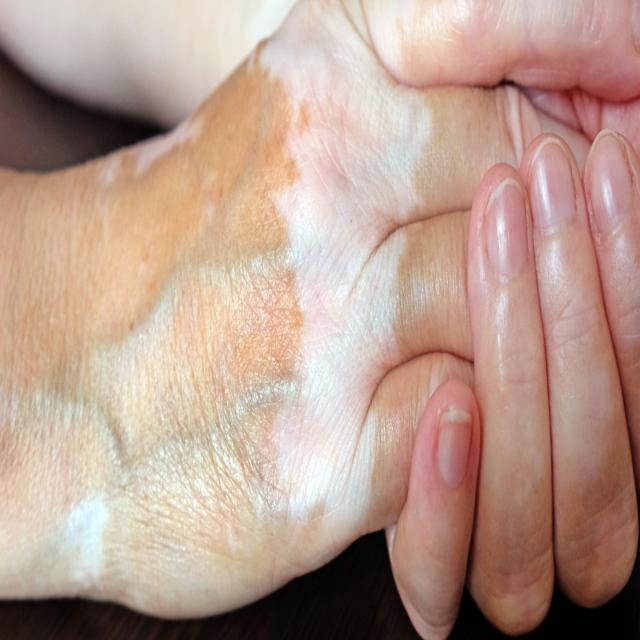vitiligo: (232, 24, 454, 527), (53, 464, 133, 587), (91, 146, 223, 183)
